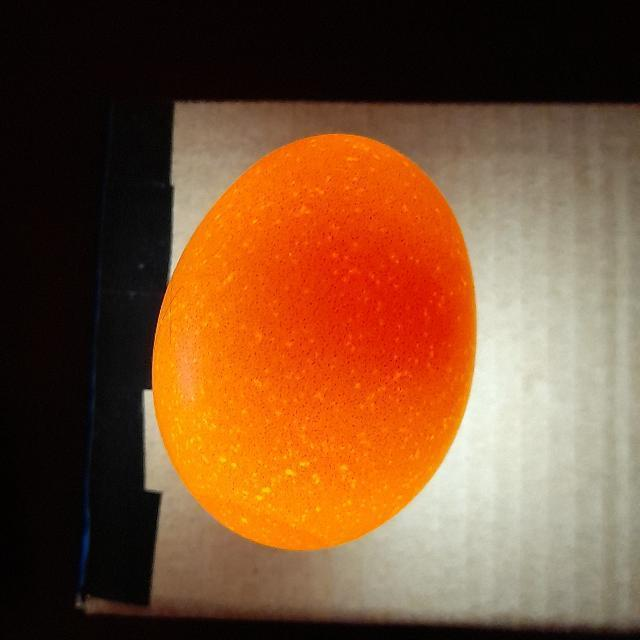A - Good: (146, 118, 494, 561)
